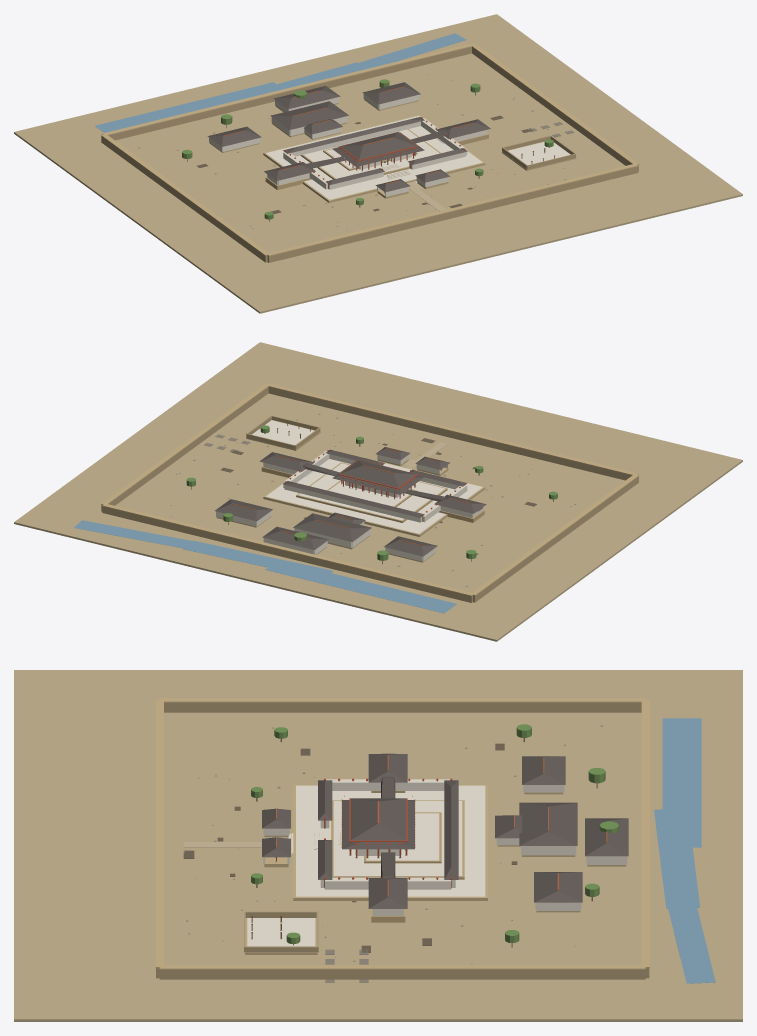
File: 时间轴.glb
3 views of the same model, one above another, from view 1: azimuth 30°, elevation 25°; view 2: azimuth 150°, elevation 25°; view 3: azimuth 270°, elevation 25° (orthographic). The views are drawn at different scales.
Visible parts, largest first — view 1: 大地底, 垣南, 甲一级灰, 垣北, 河水0, 垣顶南, 垣顶北, 甲二级灰, 垣西, 乙1顶_顶, 主殿顶_上檐, 垣东 (+14 smaller); view 2: 大地底, 垣北, 垣南, 河水0, 甲一级灰, 垣顶北, 垣顶南, 河水1, 甲二级灰, 乙1顶_顶, 垣西, 垣东 (+17 smaller); view 3: 大地底, 甲一级灰, 垣东, 河水0, 垣西, 河水1, 甲二级灰, 乙1顶_顶, 垣顶东, 主殿顶_上檐, 垣顶西, 垣顶南 (+21 smaller).
Boxes of the visible parts, box(x1,y1,x2,y2) form: 大地底: box(14, 14, 742, 313); 垣南: box(267, 166, 638, 262); 甲一级灰: box(266, 116, 482, 199); 垣北: box(109, 47, 471, 140); 河水0: box(95, 82, 282, 132); 垣顶南: box(267, 164, 638, 256); 垣顶北: box(102, 43, 473, 135); 甲二级灰: box(304, 129, 439, 178); 垣西: box(101, 136, 267, 262); 乙1顶_顶: box(270, 101, 348, 129); 主殿顶_上檐: box(340, 132, 416, 159); 垣东: box(472, 47, 638, 171); 大地底: box(14, 342, 742, 641); 垣北: box(102, 506, 472, 602); 垣南: box(268, 387, 631, 480); 河水0: box(265, 560, 456, 613); 甲一级灰: box(266, 459, 482, 533); 垣顶北: box(102, 503, 473, 596); 垣顶南: box(266, 383, 638, 475); 河水1: box(183, 540, 333, 578); 甲二级灰: box(298, 463, 445, 520); 乙1顶_顶: box(293, 513, 371, 541); 垣西: box(473, 476, 638, 602); 垣东: box(101, 387, 268, 511); 大地底: box(14, 670, 742, 1021); 甲一级灰: box(296, 785, 485, 896); 垣东: box(159, 970, 645, 979); 河水0: box(662, 718, 701, 847); 垣西: box(164, 703, 641, 712); 河水1: box(654, 809, 699, 908); 甲二级灰: box(333, 801, 462, 876); 乙1顶_顶: box(519, 802, 577, 845); 垣顶东: box(159, 965, 645, 969); 主殿顶_上檐: box(350, 798, 406, 840); 垣顶西: box(159, 698, 645, 702); 垣顶南: box(155, 700, 163, 968).
Bounding box in the file's own units: 340 × 18.09 × 300.
